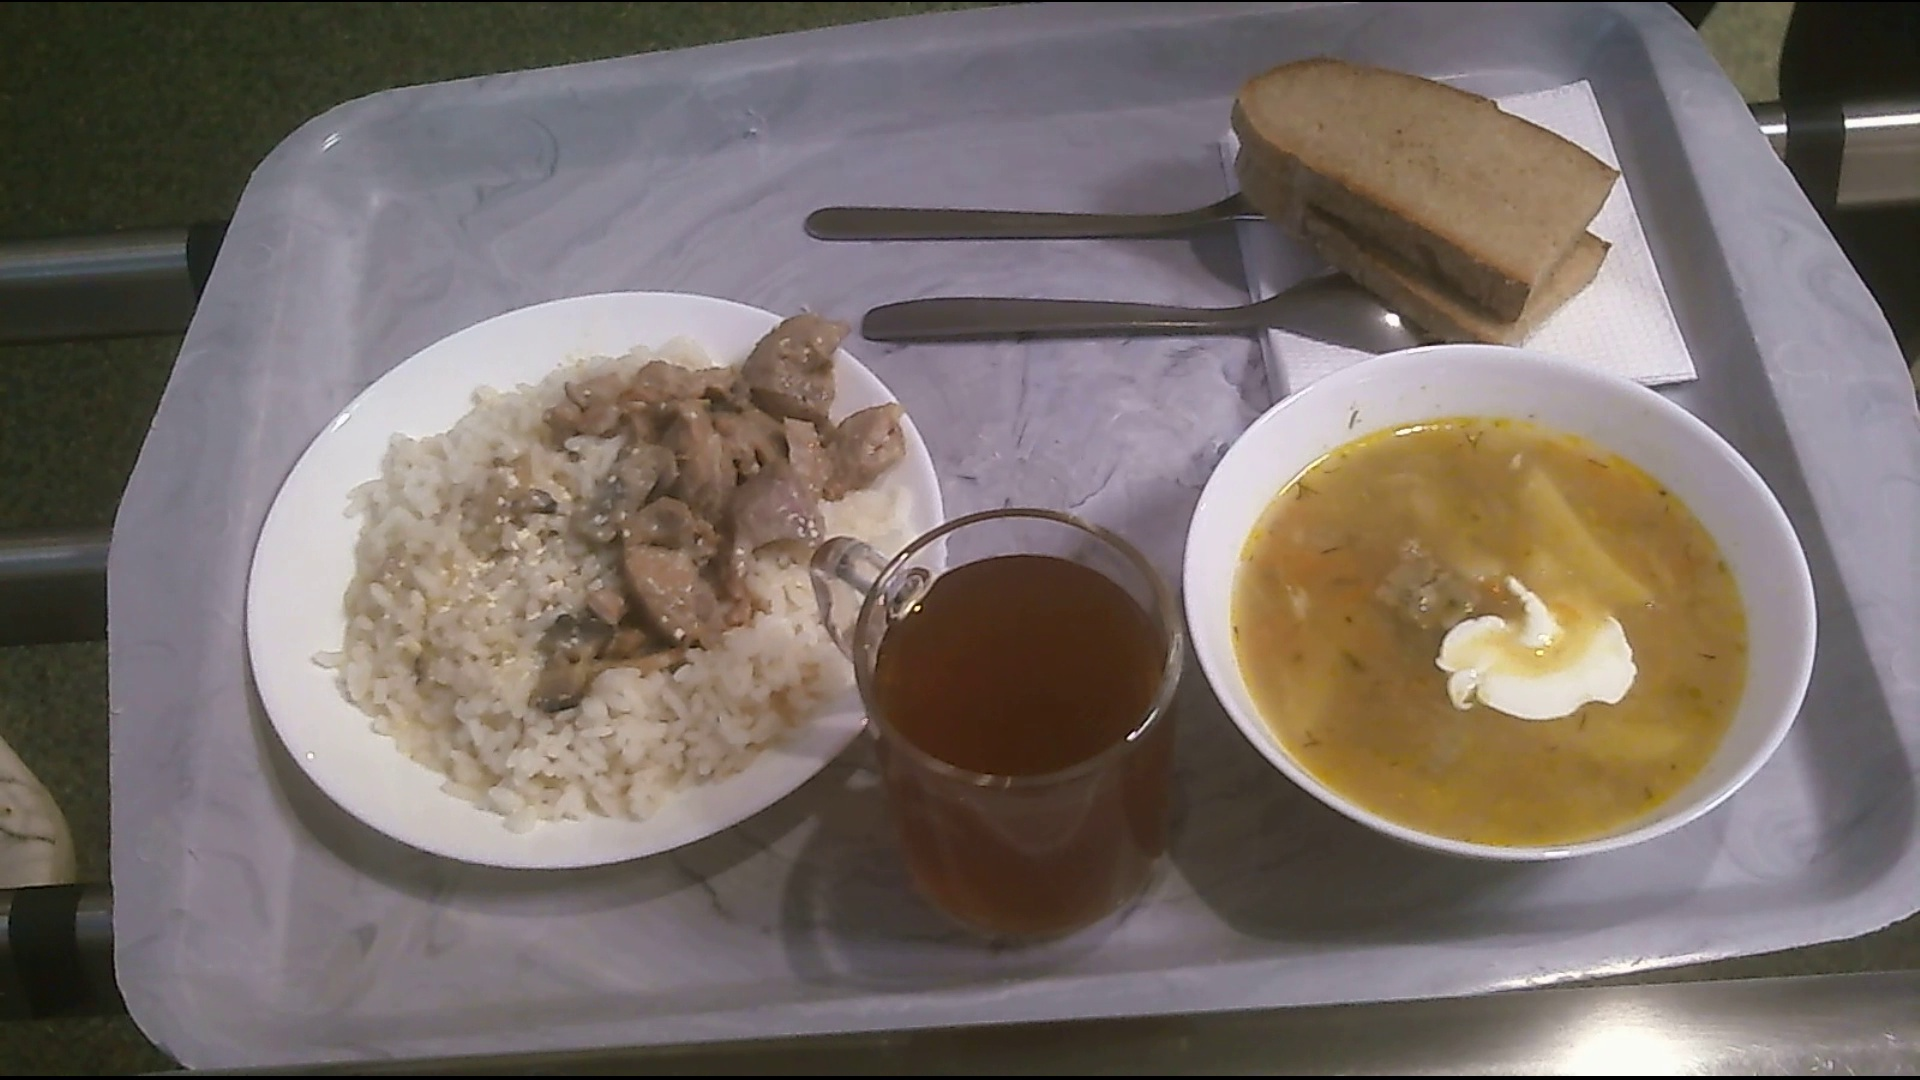bowl: (1218, 349, 1818, 856)
cutlery: (851, 266, 1437, 385), (804, 182, 1275, 276)
drink: (833, 501, 1174, 939)
other: (1212, 50, 1629, 349)
plate: (244, 302, 935, 895)
